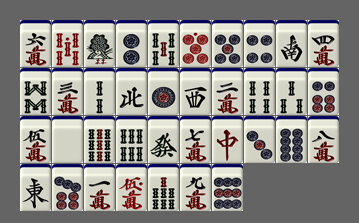0m: (116, 164, 147, 211)
0p: (180, 20, 211, 67)
0s: (52, 20, 83, 67)
1m: (84, 164, 115, 211)
1p: (148, 68, 179, 115)
1s: (84, 20, 115, 67)
1z: (20, 164, 51, 211)
2m: (212, 68, 243, 115)
2p: (116, 20, 147, 67)
2s: (84, 68, 115, 115)
2z: (276, 20, 307, 67)
3m: (52, 68, 83, 115)
3p: (244, 116, 275, 163)
3s: (276, 68, 307, 115)
3z: (180, 68, 211, 115)
4m: (308, 20, 339, 67)
4p: (244, 20, 275, 67)
4s: (244, 68, 275, 115)
4z: (116, 68, 147, 115)
5m: (20, 116, 51, 163)
5p: (212, 20, 243, 67)
5s: (148, 20, 179, 67)
5z: (52, 116, 83, 163)
6m: (20, 20, 51, 67)
6p: (308, 68, 339, 115)
6s: (116, 116, 147, 163)
6z: (148, 116, 179, 163)
7m: (180, 116, 211, 163)
7p: (52, 164, 83, 211)
7s: (148, 164, 179, 211)
7z: (212, 116, 243, 163)
8m: (308, 116, 339, 163)
8p: (276, 116, 307, 163)
8s: (20, 68, 51, 115)
9m: (180, 164, 211, 211)
9p: (212, 164, 243, 211)
9s: (84, 116, 115, 163)
